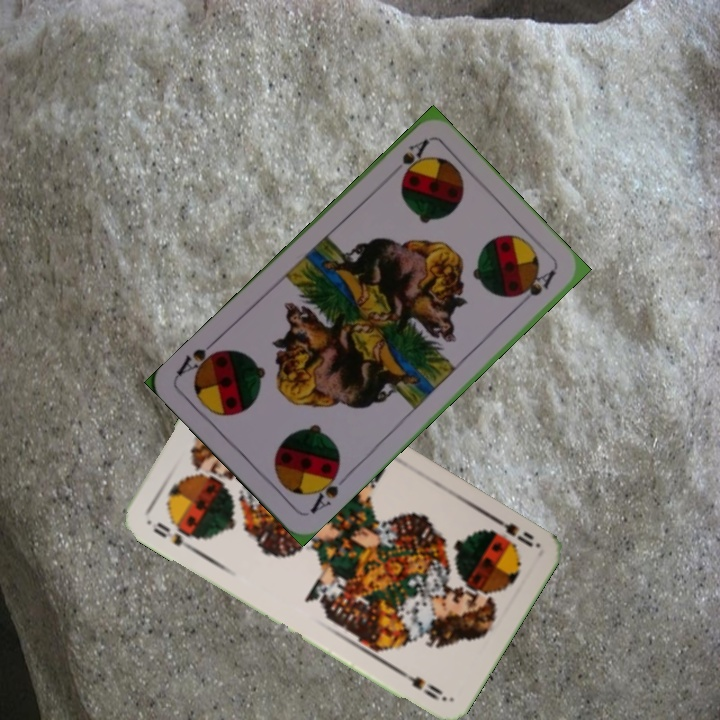SA: (306, 464, 343, 517), (397, 134, 433, 182)
SO: (486, 511, 540, 550), (149, 518, 197, 554)
